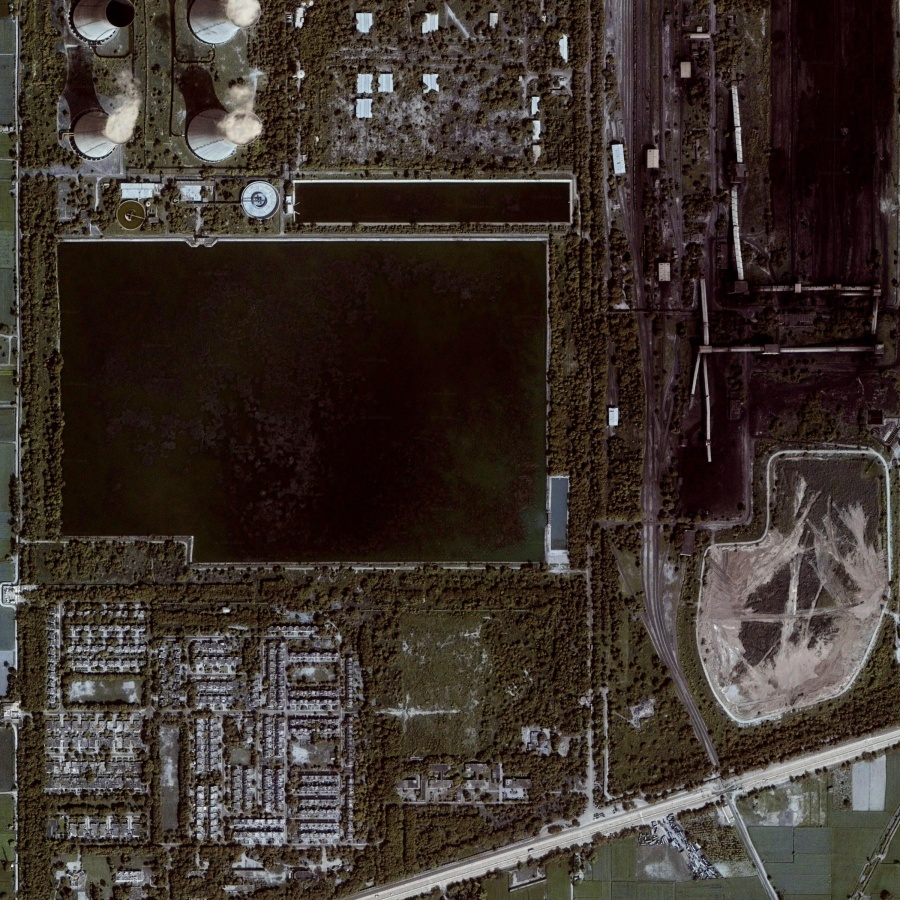PowerPlant: (33, 219, 586, 591)
